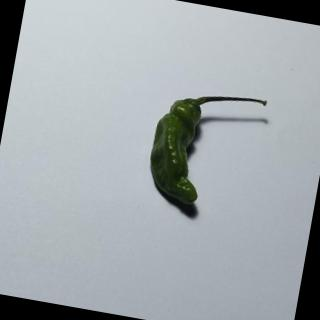Cabai Hijau: (139, 79, 276, 223)
